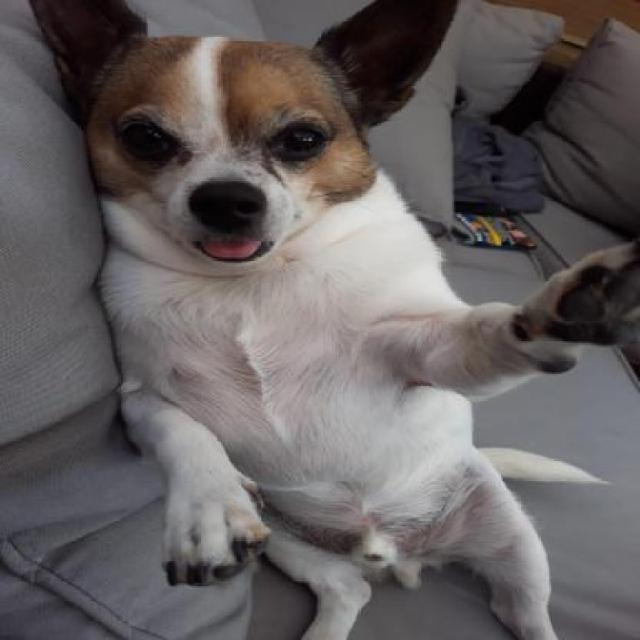Dog: (27, 1, 638, 638)
